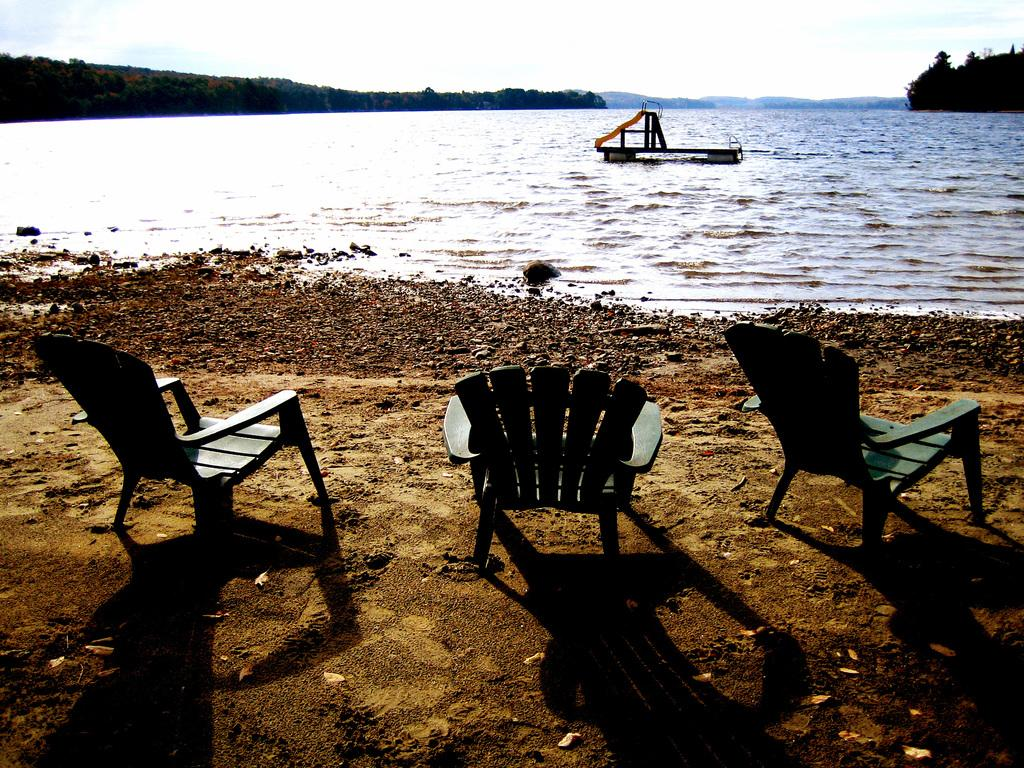Chair: (34, 331, 329, 545), (722, 321, 984, 549), (442, 364, 662, 574)
